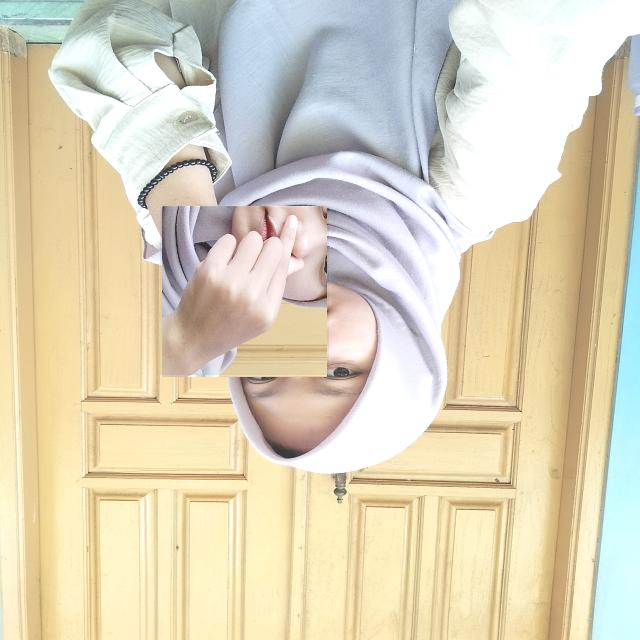bau: (160, 207, 329, 375)
